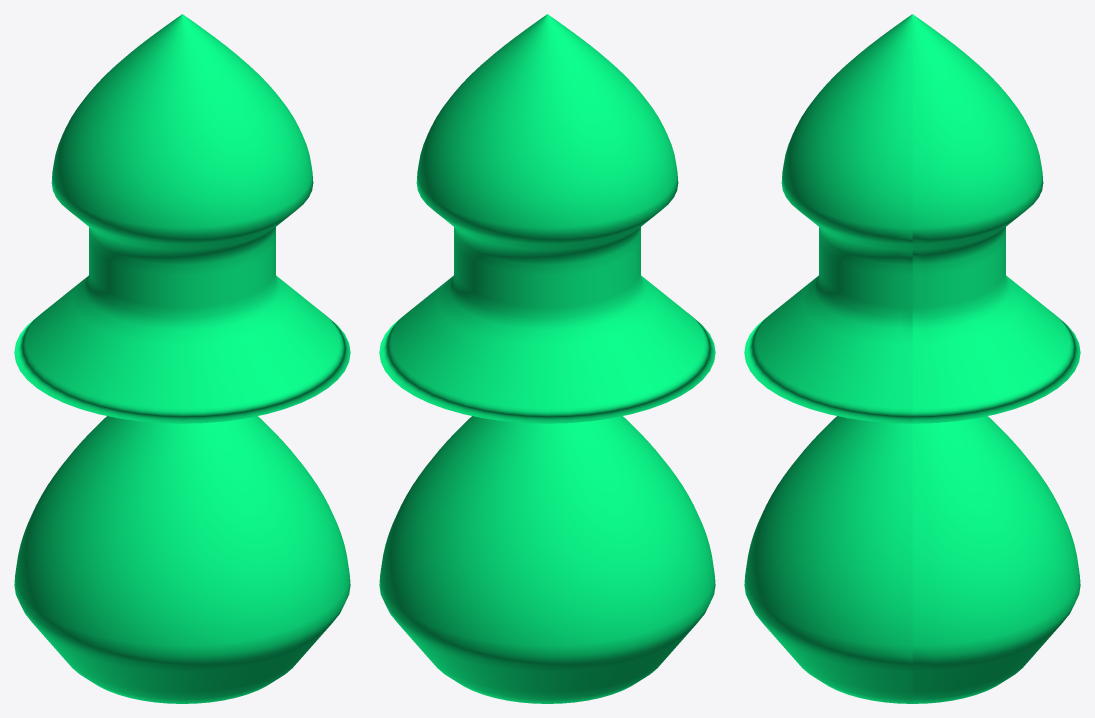
The model's file is canopic_jar_solid_fallback_1767299918301.glb.
The picture shows the model from 3 angles, left to right: view 1: azimuth 30°, elevation 25°; view 2: azimuth 150°, elevation 25°; view 3: azimuth 270°, elevation 25°; orthographic projection.
Visible parts, largest first — view 1: MathShape; view 2: MathShape; view 3: MathShape.
Boxes of the visible parts, box(x1,y1,x2,y2) form: MathShape: box(14, 14, 350, 703); MathShape: box(379, 14, 715, 703); MathShape: box(744, 14, 1080, 703).
Bounding box in the file's own units: 0.9 × 2 × 0.9.
